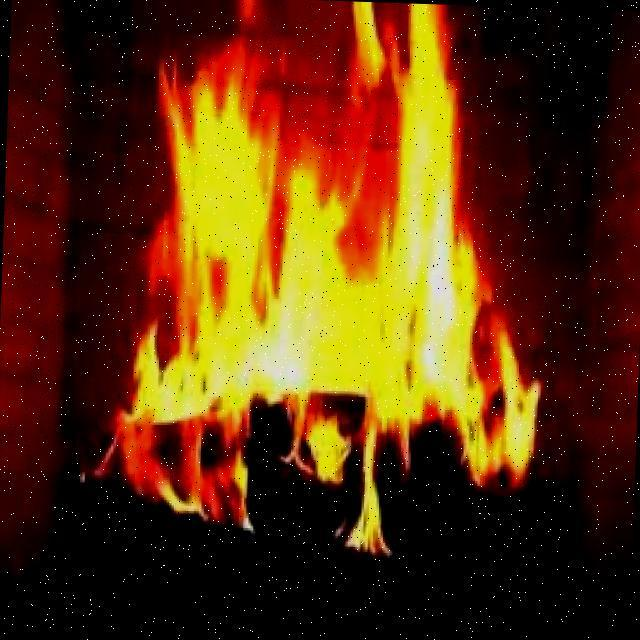Fire: (137, 78, 543, 487)
